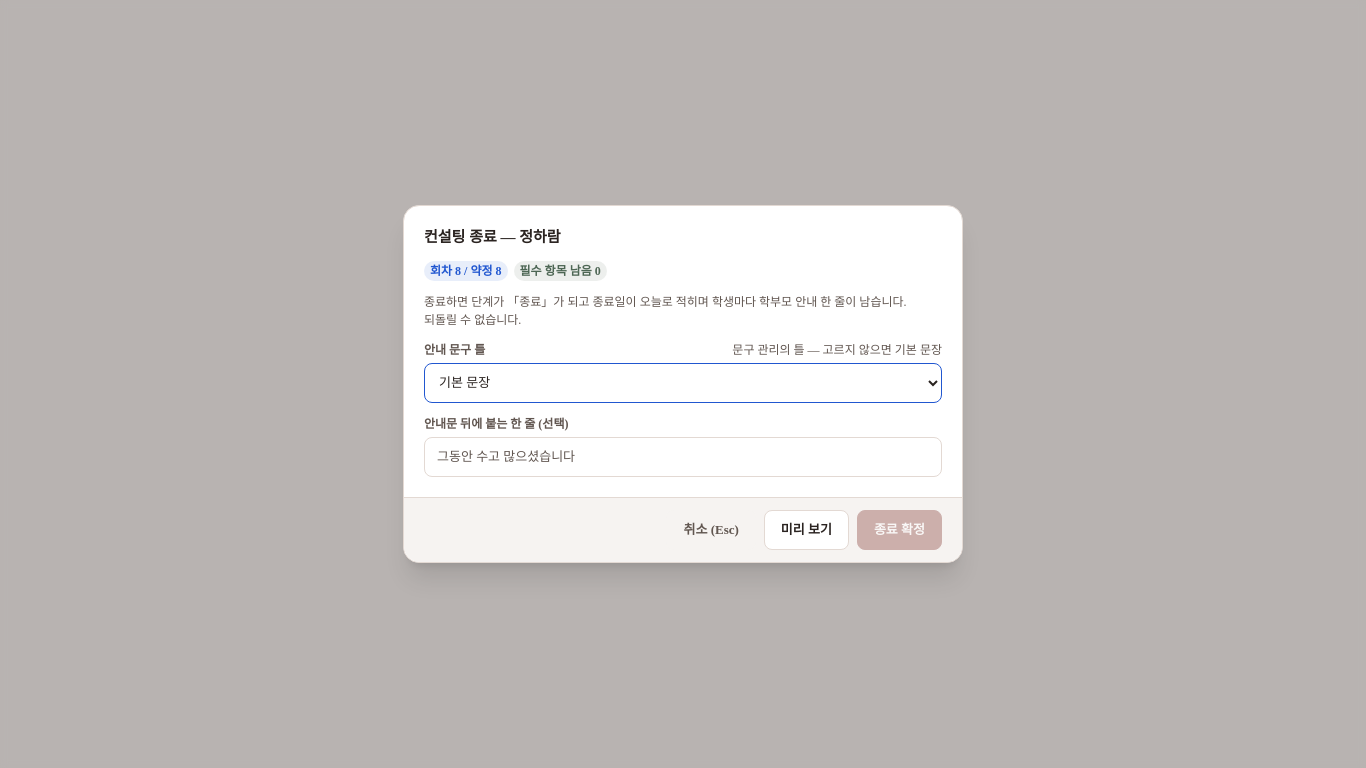
Test: 미리보기의 안내문을 카카오톡 문구로 그대로 복사한다 — 발송 채널이 아니라 붙여 넣을 글이다 (I-95)
The image size is (1366, 768).
Click the button "미리 보기" at (806, 530), box [764,510,849,550]
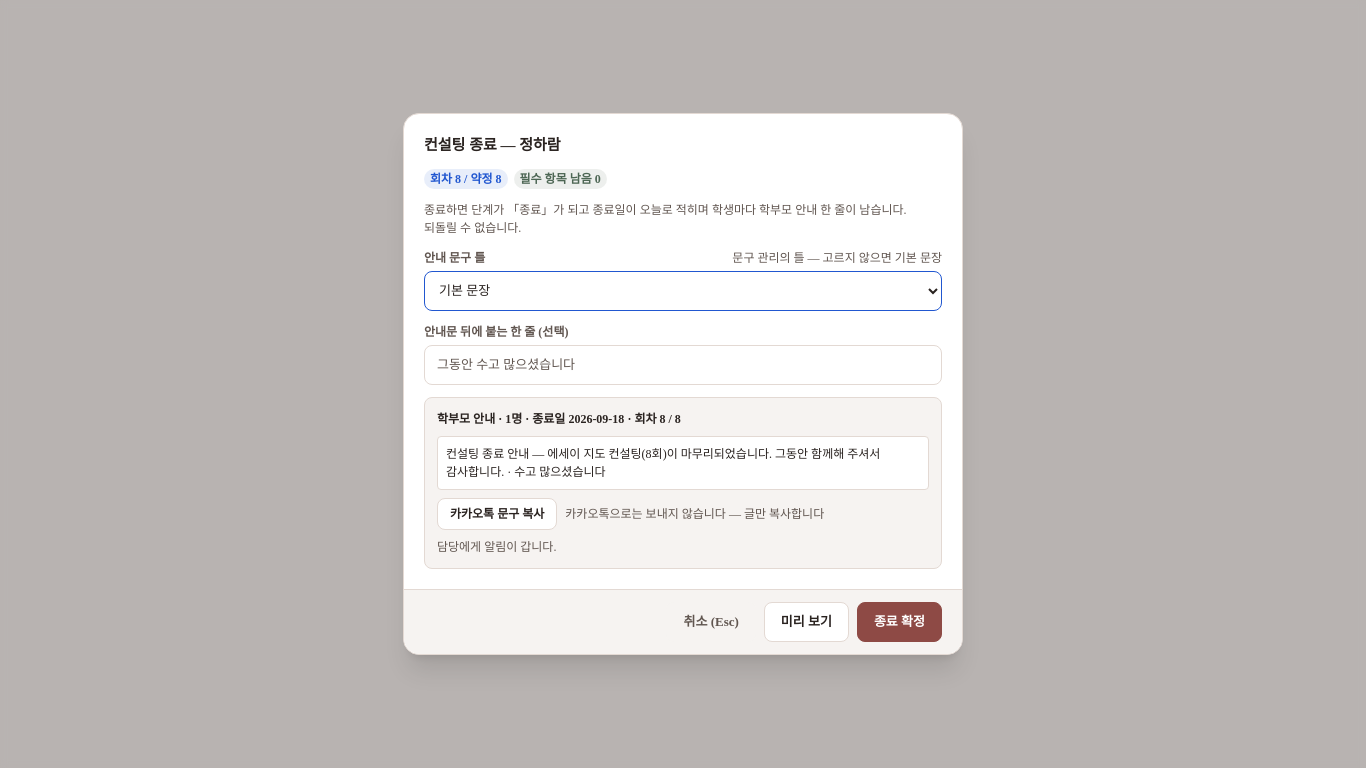
Click the button "카카오톡 문구 복사" at (497, 514), box [437,498,557,530]
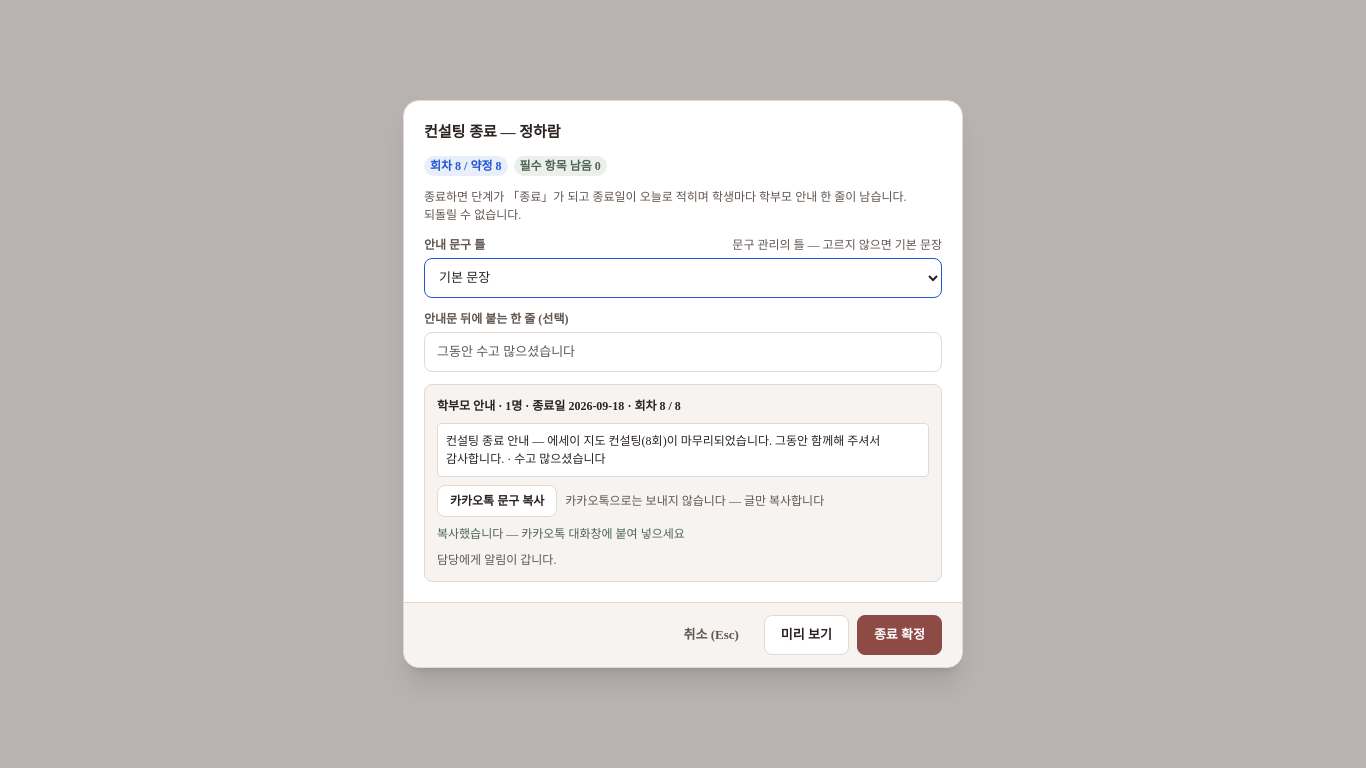
Now the text "복사했습니다 — 카카오톡 대화창에 붙여 넣으세요" is shown, box [437,525,685,543]
